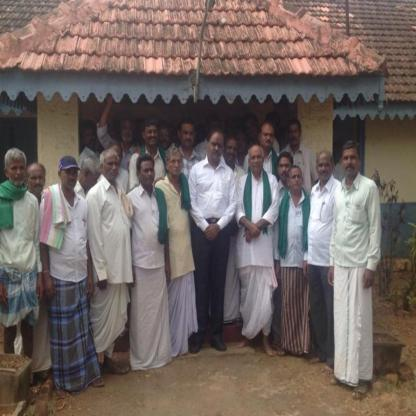face: (343, 150, 359, 175), (62, 167, 78, 191), (29, 171, 45, 195), (10, 161, 26, 185), (85, 168, 101, 190), (105, 157, 119, 181), (210, 138, 225, 160), (140, 164, 155, 185), (251, 151, 264, 174), (318, 160, 332, 181), (170, 154, 183, 176), (279, 161, 293, 181), (182, 127, 196, 147), (226, 143, 239, 164), (261, 129, 275, 148), (246, 121, 259, 141), (109, 151, 122, 171), (85, 129, 98, 148), (166, 129, 178, 148), (134, 124, 146, 143), (290, 172, 302, 190), (210, 124, 222, 142), (159, 130, 171, 148), (122, 123, 134, 141), (146, 128, 158, 146), (289, 128, 301, 145), (236, 135, 247, 153), (107, 132, 117, 148), (228, 122, 236, 140)
